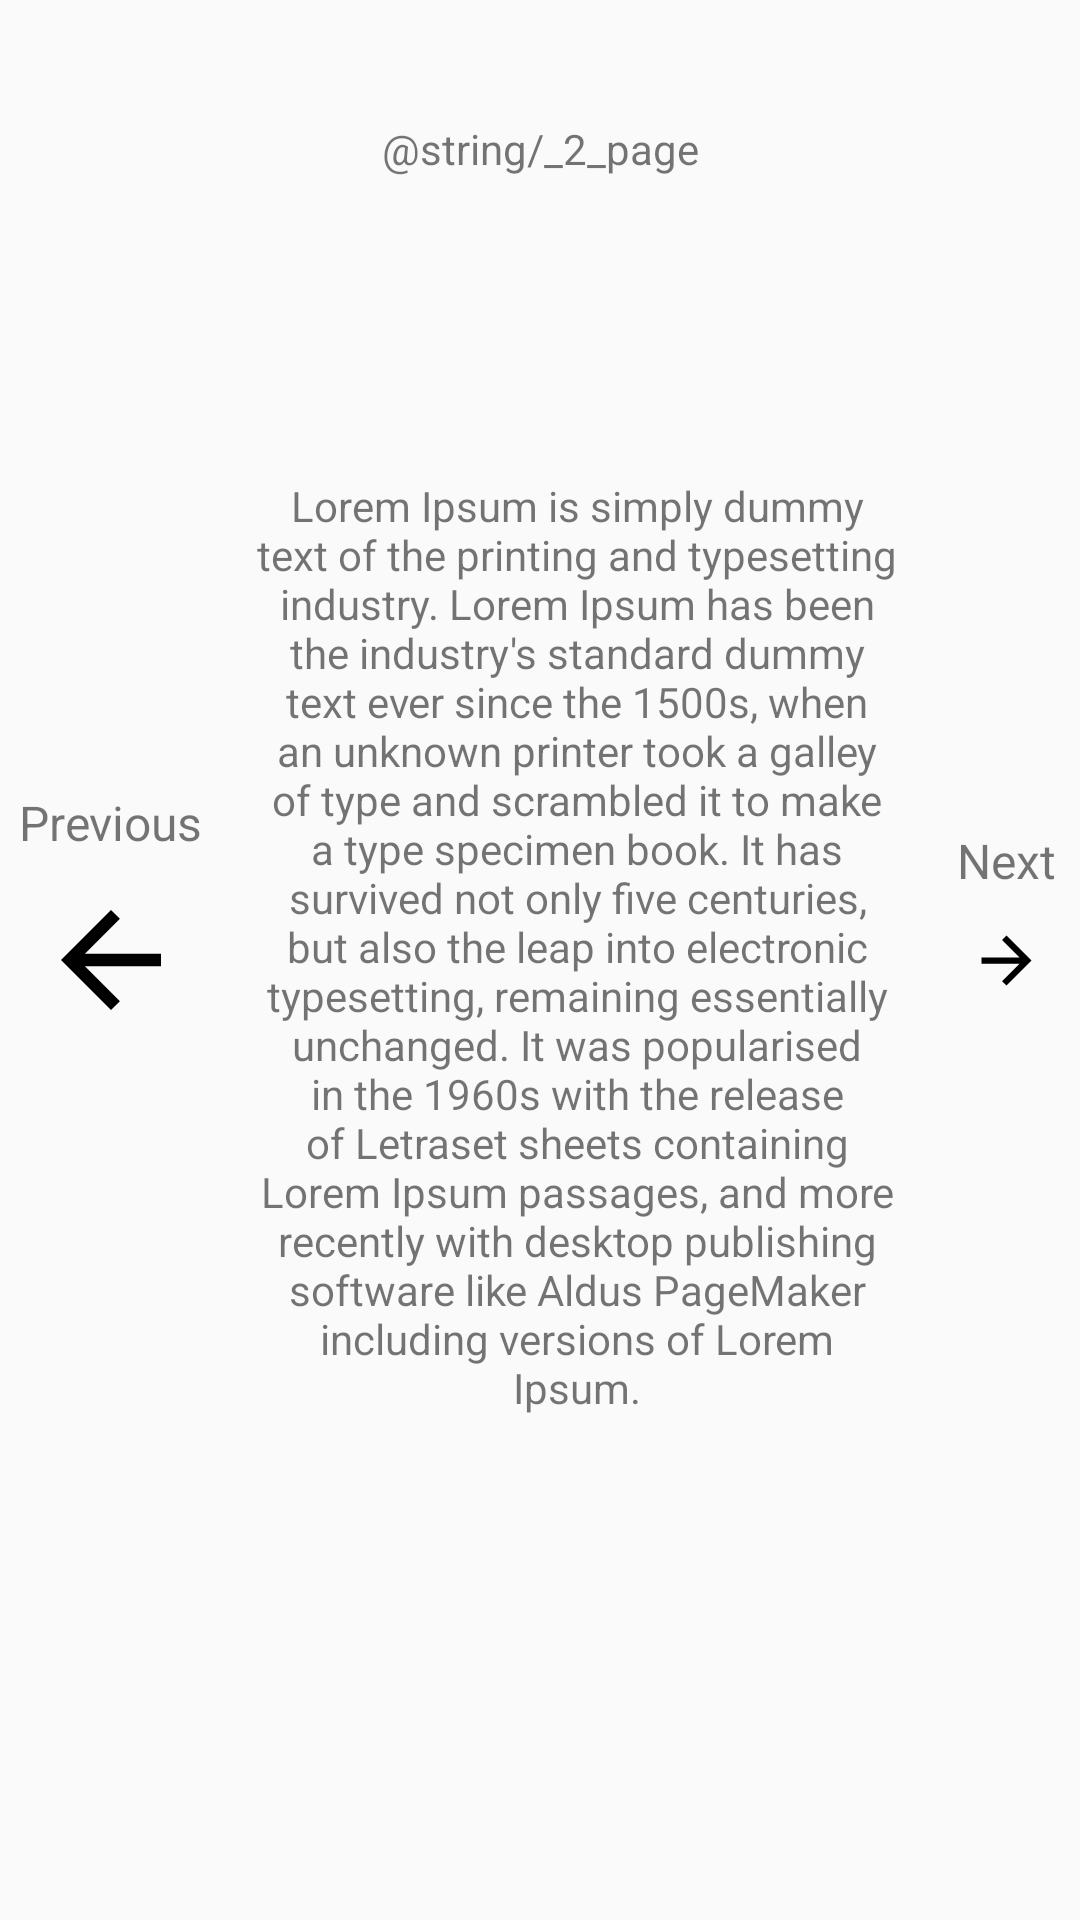

Where to tap for icons on this 1080x1920 app screen, as (x=x, y=y):
arrow back: (x=111, y=960)
arrow forward: (x=1006, y=960)
